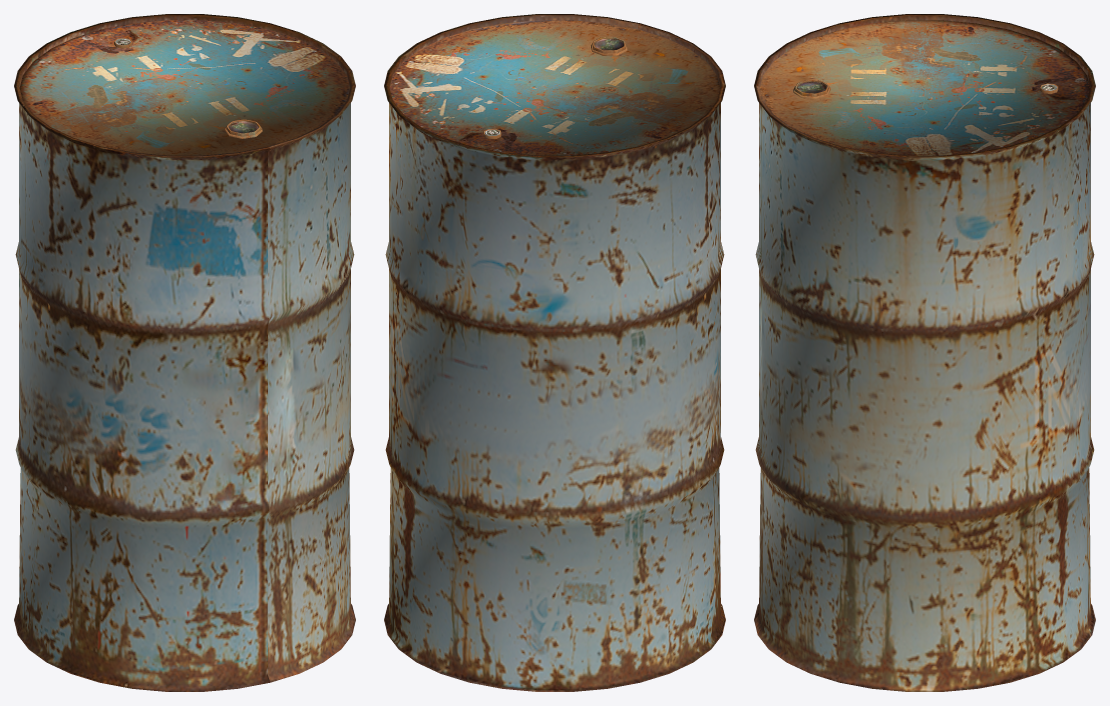
The model's file is Barrel.glb.
3 views of the same model, side by side, from view 1: azimuth 30°, elevation 25°; view 2: azimuth 150°, elevation 25°; view 3: azimuth 270°, elevation 25° (orthographic).
Parts seen in each view (by area): view 1: Barrel; view 2: Barrel; view 3: Barrel.
Boxes of the visible parts, x1,y1,x2,y2 form: Barrel: (14,14,355,691); Barrel: (384,14,725,691); Barrel: (754,14,1095,691).
Bounding box in the file's own units: 5.9 × 10.22 × 5.93.
1 material, 1 textured.
